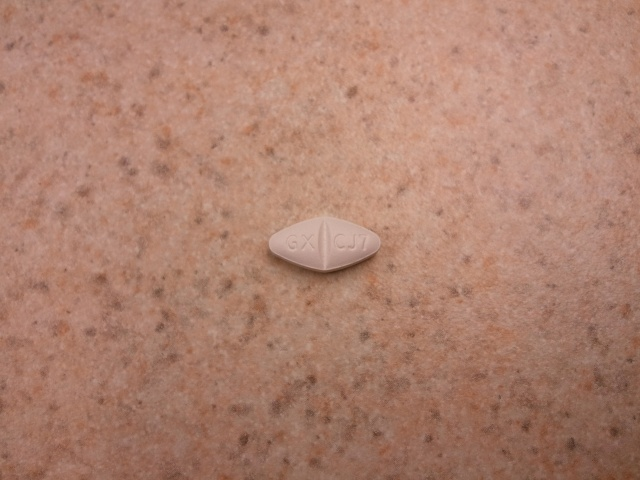7: (356, 231, 369, 253)
C: (333, 231, 345, 252)
G: (283, 233, 299, 254)
J: (347, 231, 356, 253)
X: (298, 231, 318, 253)
|: (316, 210, 330, 275)
